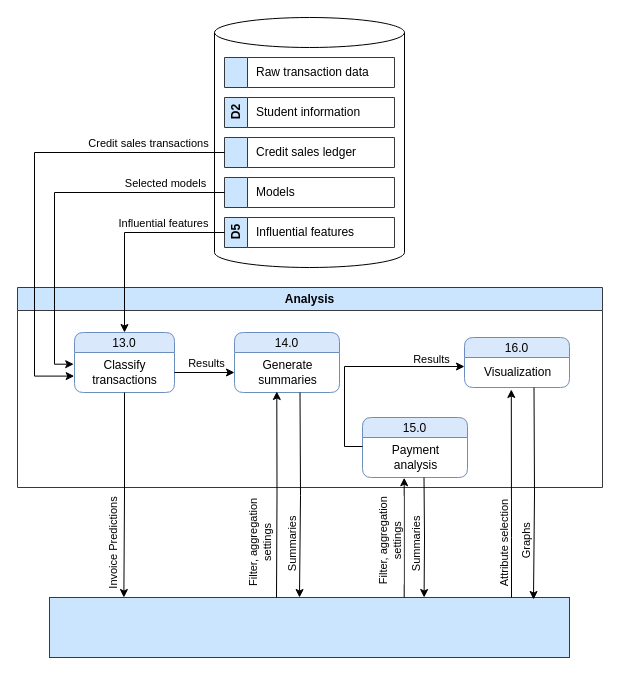
Some shapes in this 620 by 675 pixel diagram are drawn without their labels. Each missing label, with the box of its shape:
D1: (224, 56, 394, 88)
D3: (224, 136, 394, 168)
D4: (224, 176, 394, 208)
Graphical User Interface: (48, 596, 570, 658)
